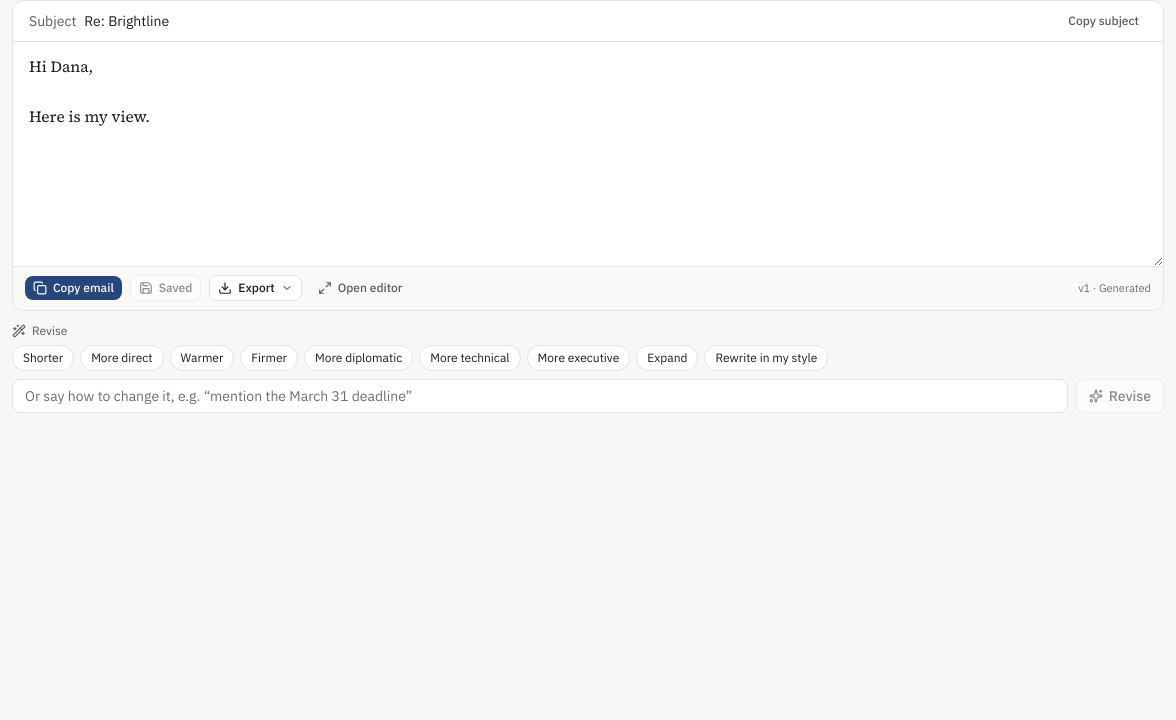
draft editor: writing controls request a real revision
The image size is (1176, 720).
Click the button with test id "rewrite-firmer" at {"x": 269, "y": 358}, box [240, 344, 298, 370]
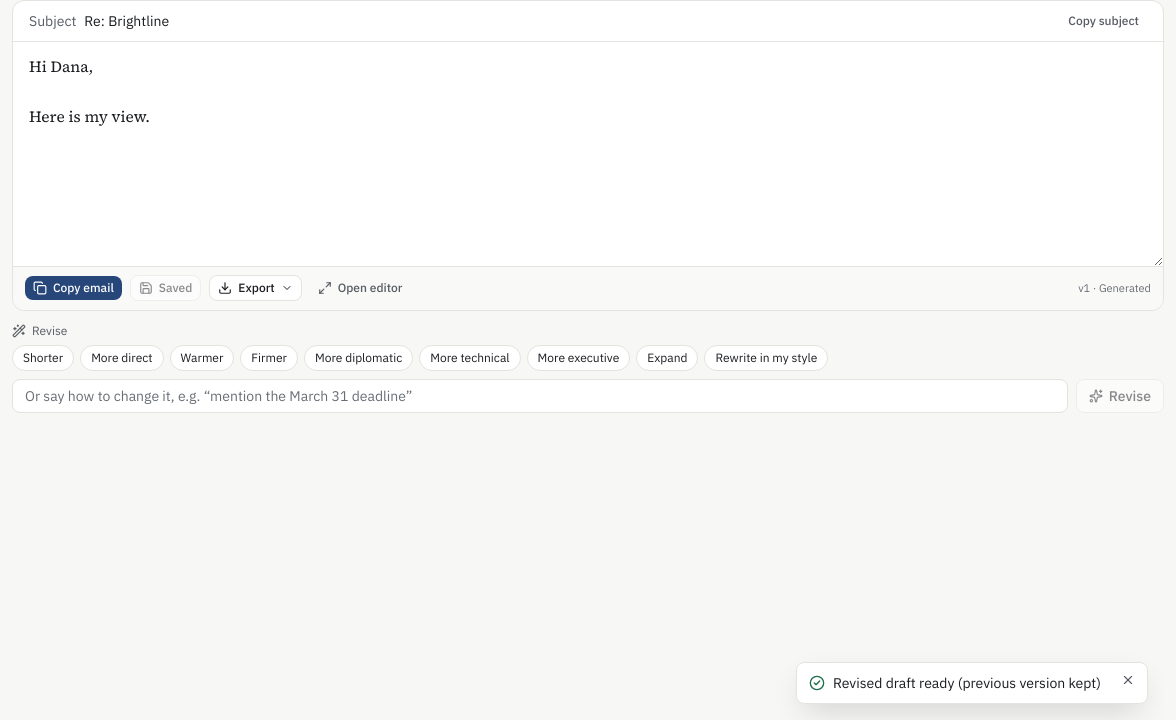
Check: the text "Revised draft ready (previous version kept)" is shown, box [833, 673, 1113, 693]
